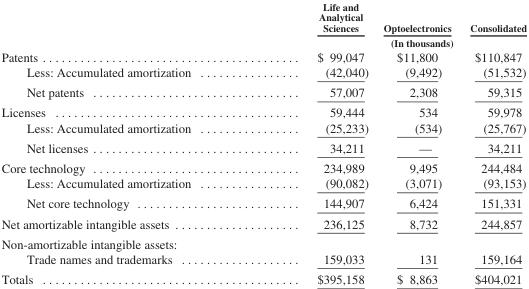table: (0, 0, 526, 285)
table column: (0, 0, 253, 285), (253, 0, 375, 285), (375, 0, 459, 285), (459, 0, 526, 285)
table column header: (0, 0, 526, 48)
table projected row header: (0, 233, 526, 250)
table row: (0, 0, 526, 34), (0, 192, 526, 213), (0, 81, 526, 101), (0, 137, 526, 157), (0, 213, 526, 233), (0, 101, 526, 119), (0, 119, 526, 137), (0, 157, 526, 175), (0, 250, 526, 268), (0, 64, 526, 81), (0, 175, 526, 192), (0, 233, 526, 250), (0, 268, 526, 285), (0, 48, 526, 64), (0, 34, 526, 48)
table spanning cell: (253, 34, 526, 48)
